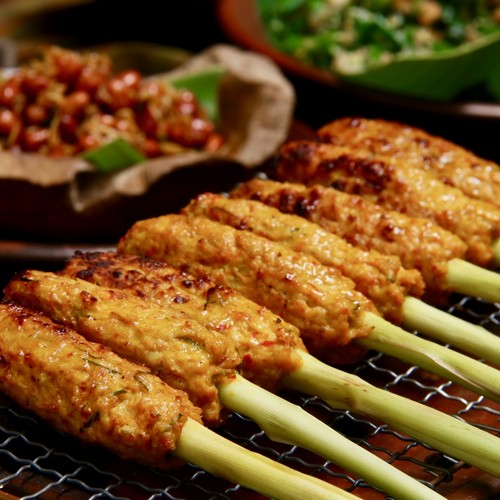sate languan: (5, 272, 228, 439), (68, 216, 405, 324), (205, 186, 500, 244)
